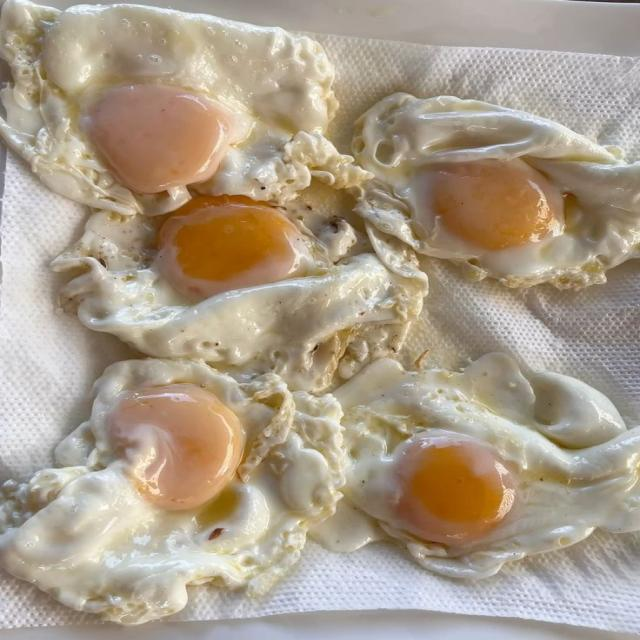fryed egg: (0, 359, 344, 623), (0, 0, 369, 214), (315, 355, 639, 578), (54, 197, 426, 391), (354, 94, 639, 288)
